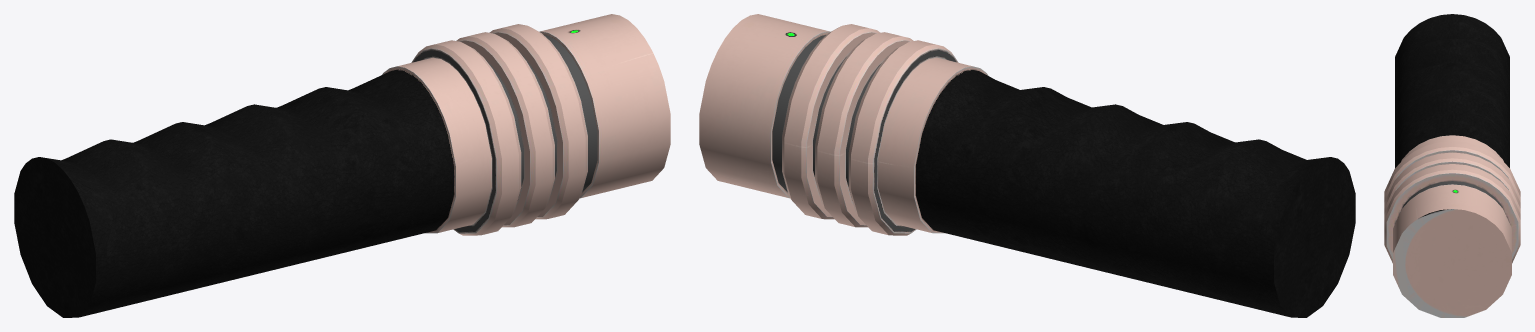
Rendered from grip_11_c_c.glb.
The picture shows the model from 3 angles, left to right: view 1: azimuth 30°, elevation 25°; view 2: azimuth 150°, elevation 25°; view 3: azimuth 270°, elevation 25°; orthographic projection. The views are drawn at different scales.
Parts seen in each view (by area): view 1: grip_11_c_c_lod0; view 2: grip_11_c_c_lod0; view 3: grip_11_c_c_lod0.
Part boxes in pixels (left/top/right/bottom): grip_11_c_c_lod0: left=14, top=14, right=670, bottom=317; grip_11_c_c_lod0: left=699, top=14, right=1355, bottom=317; grip_11_c_c_lod0: left=1384, top=14, right=1520, bottom=317.
Size of what is drawn, in the model's own units: 0.1055 by 0.0312 by 0.0309.
1 material, 1 textured.
